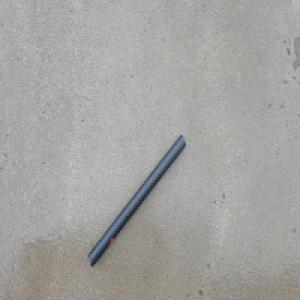LuggagePart: (87, 133, 186, 266)
